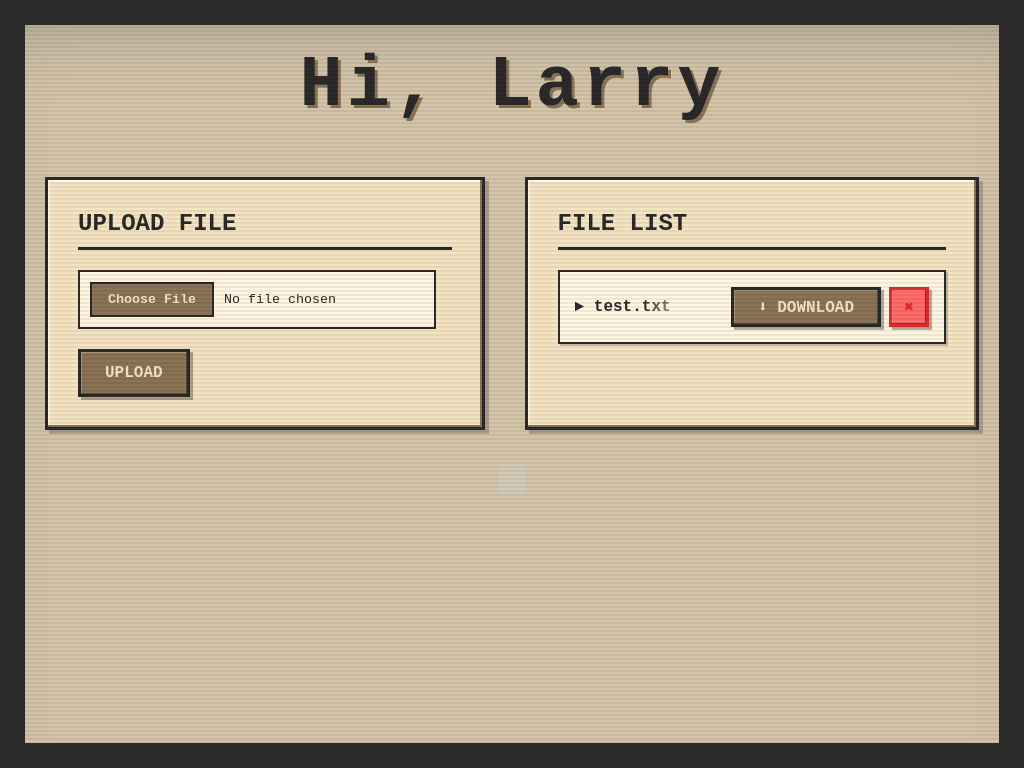
Test case: App › deletes file and refreshes list
Expected: the text "► test.txt" is shown, x1=575 y1=298 x2=671 y2=316
Click the button named "delete" at (909, 307), box x1=889 y1=287 x2=929 y2=327
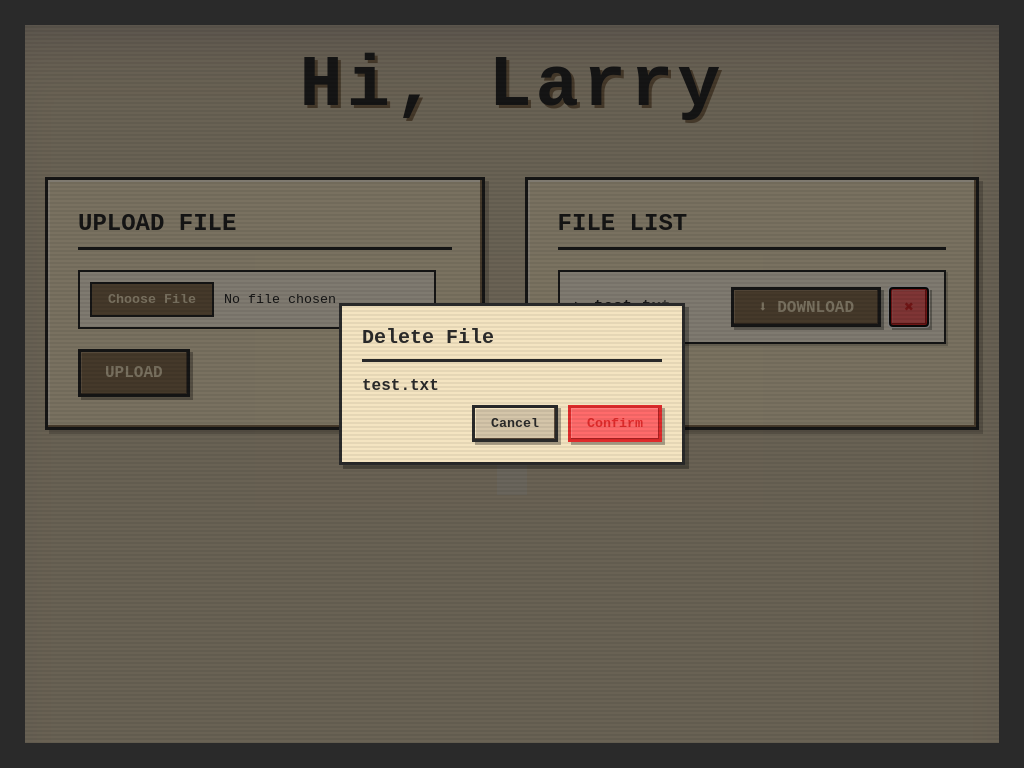
Expected: the button "Confirm" is shown
Click the button "Confirm" at (615, 424), box x1=568 y1=405 x2=662 y2=442
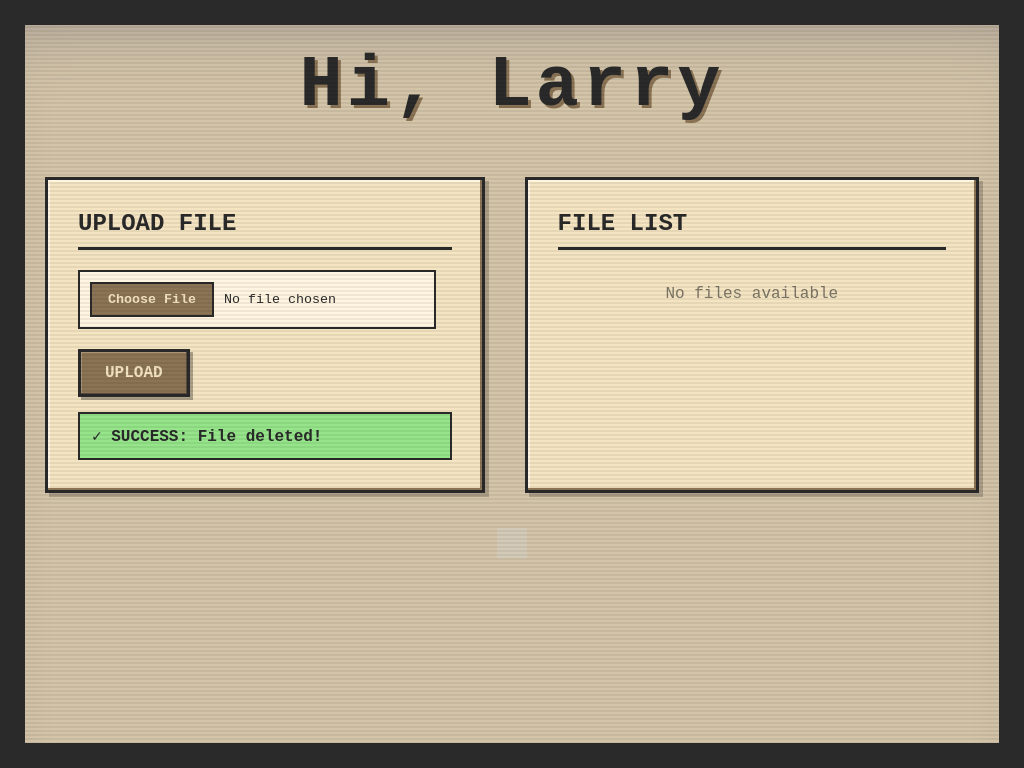
Expected: the text "► test.txt" is gone
